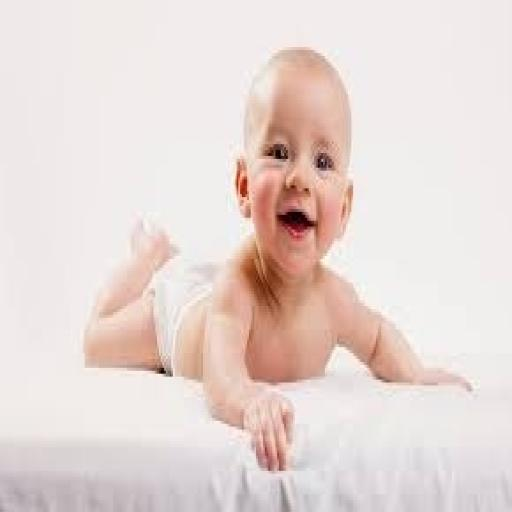laughing: (78, 38, 476, 474)
